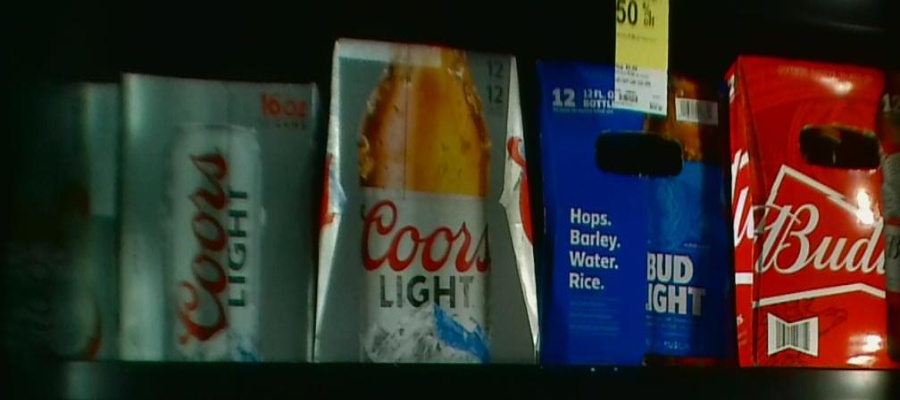bottle: (325, 37, 537, 360), (539, 59, 733, 364), (119, 70, 317, 363), (729, 53, 900, 369), (1, 78, 121, 361)
